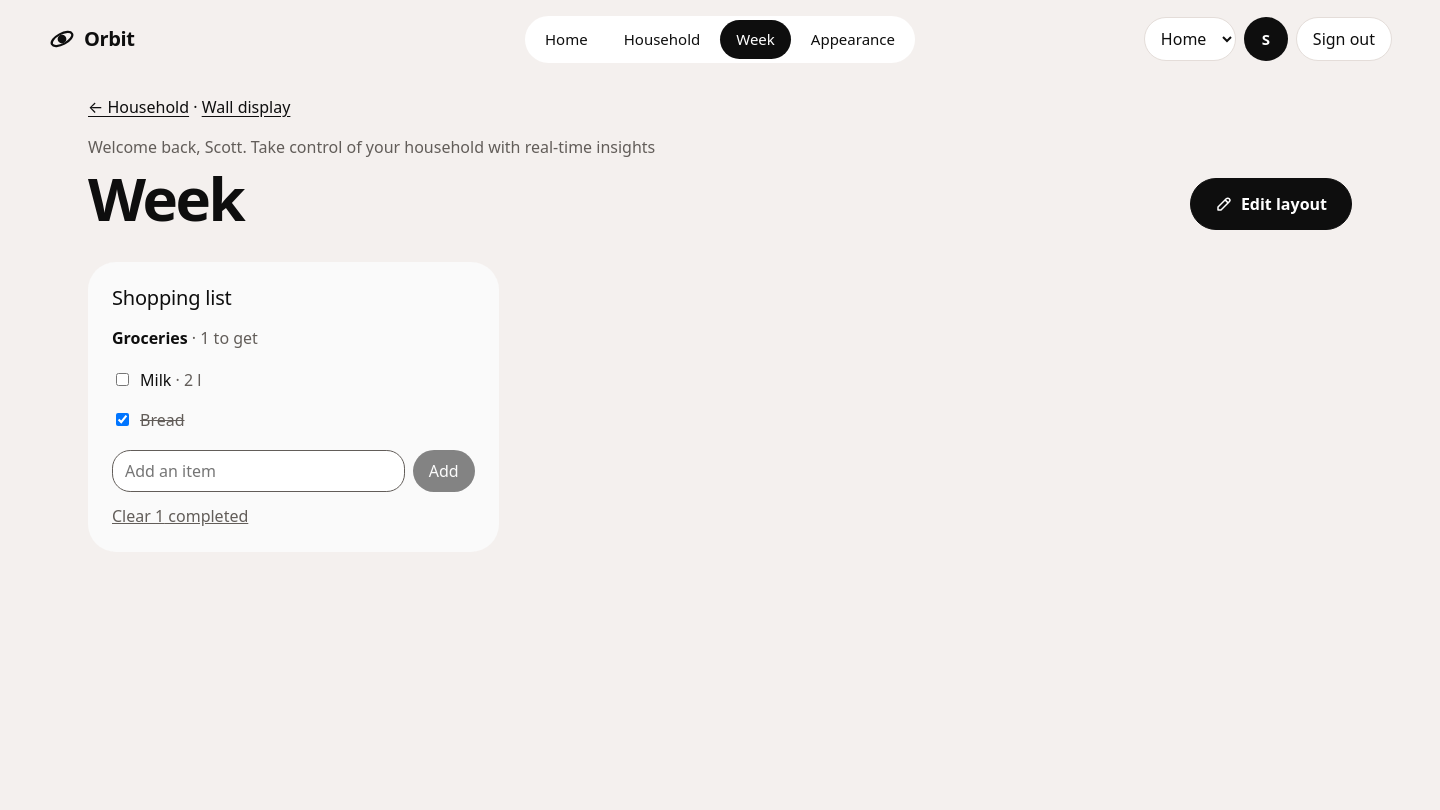
Scenario: shopping list widget › adds an item and clears the completed ones
Type "  Eggs " into the field labelled "Add an item".
click(258, 470); type("  Eggs ")  # box x1=112 y1=450 x2=405 y2=492
Then press Enter
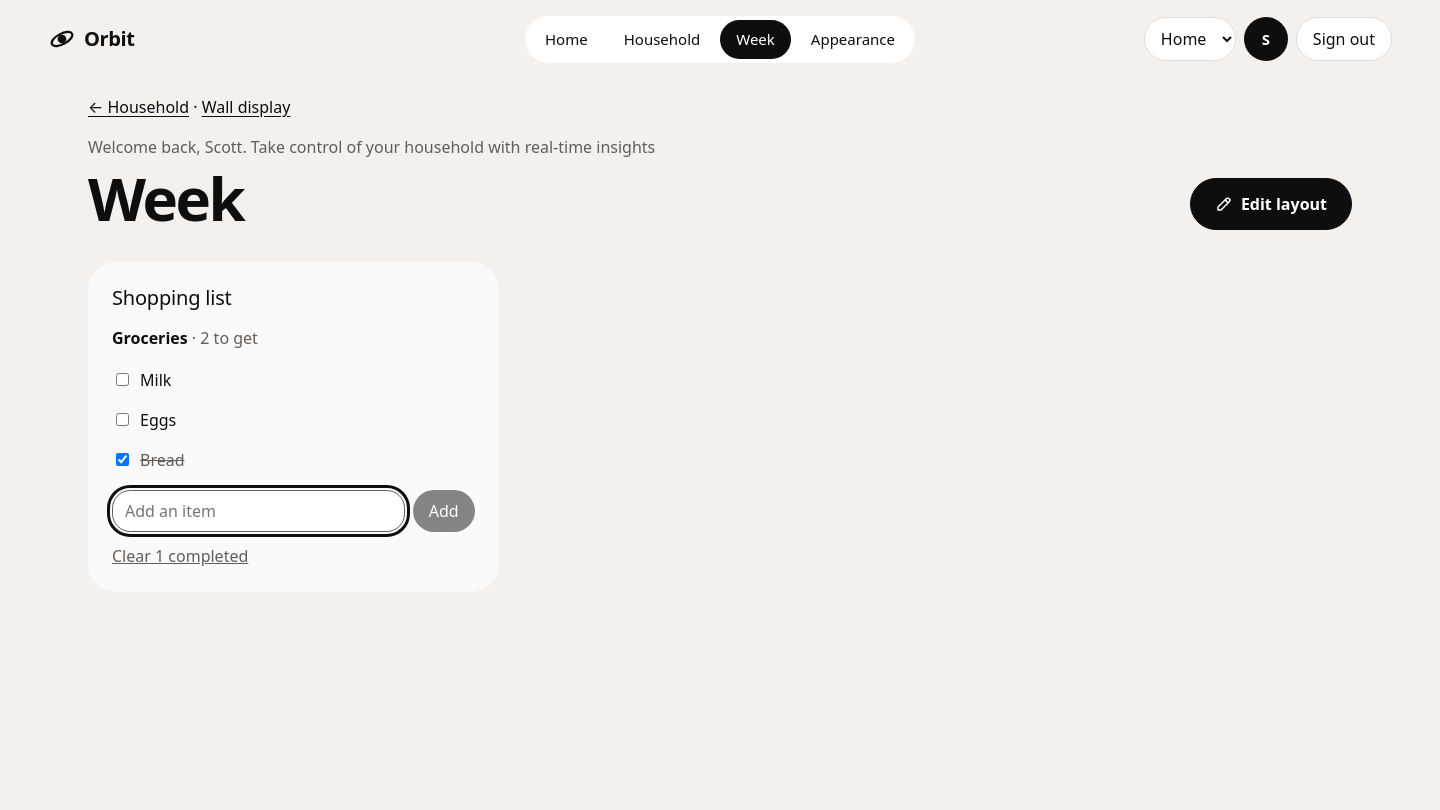
Now the text "Eggs" is shown, box x1=140 y1=408 x2=176 y2=432
Click the button "Clear 1 completed".
click(180, 556)  # box x1=112 y1=544 x2=248 y2=568
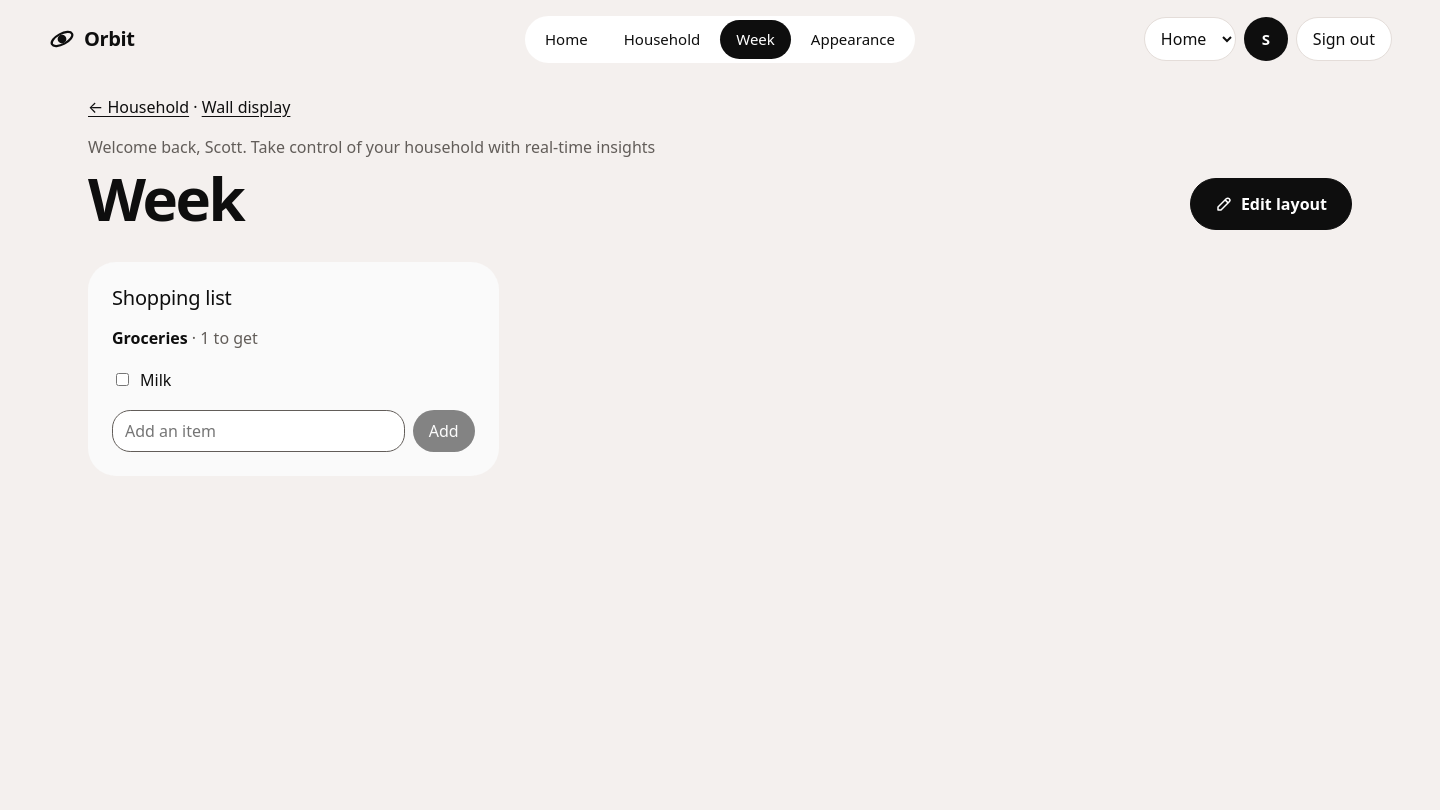
Now the text "Bread" is gone
